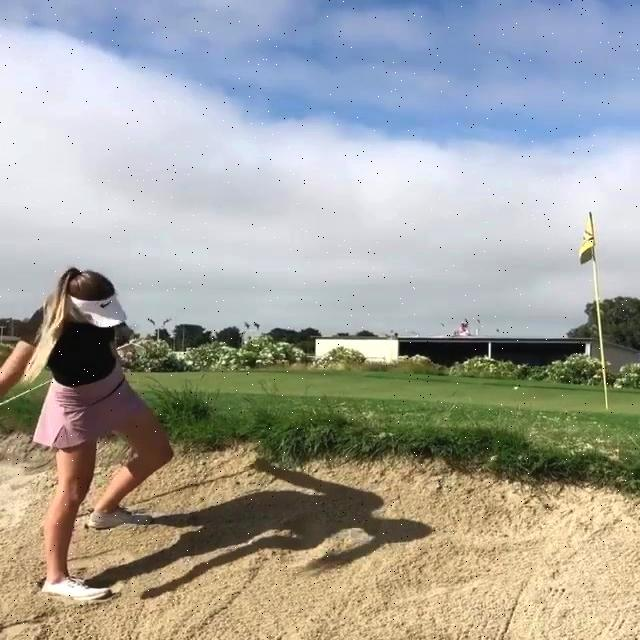golf club-handle: (0, 379, 54, 407)
